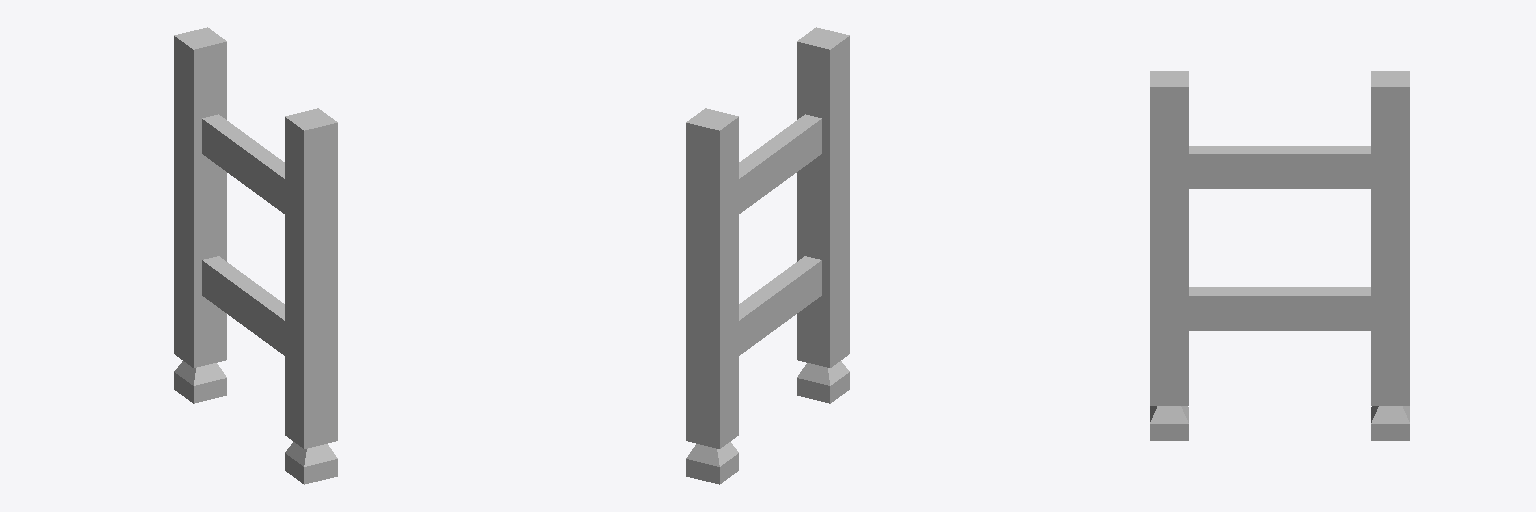
The model's file is structure-yellow-high.obj.
3 renders of one model, left to right at view 1: azimuth 30°, elevation 25°; view 2: azimuth 150°, elevation 25°; view 3: azimuth 270°, elevation 25°, orthographic.
Parts seen in each view (by area): view 1: structure-yellow-high; view 2: structure-yellow-high; view 3: structure-yellow-high.
Boxes of the visible parts, <box> form: structure-yellow-high: <box>174,27,337,484</box>; structure-yellow-high: <box>686,27,849,484</box>; structure-yellow-high: <box>1150,71,1409,440</box>.
Size of the model in its own units: 0.15 by 1.5 by 1.